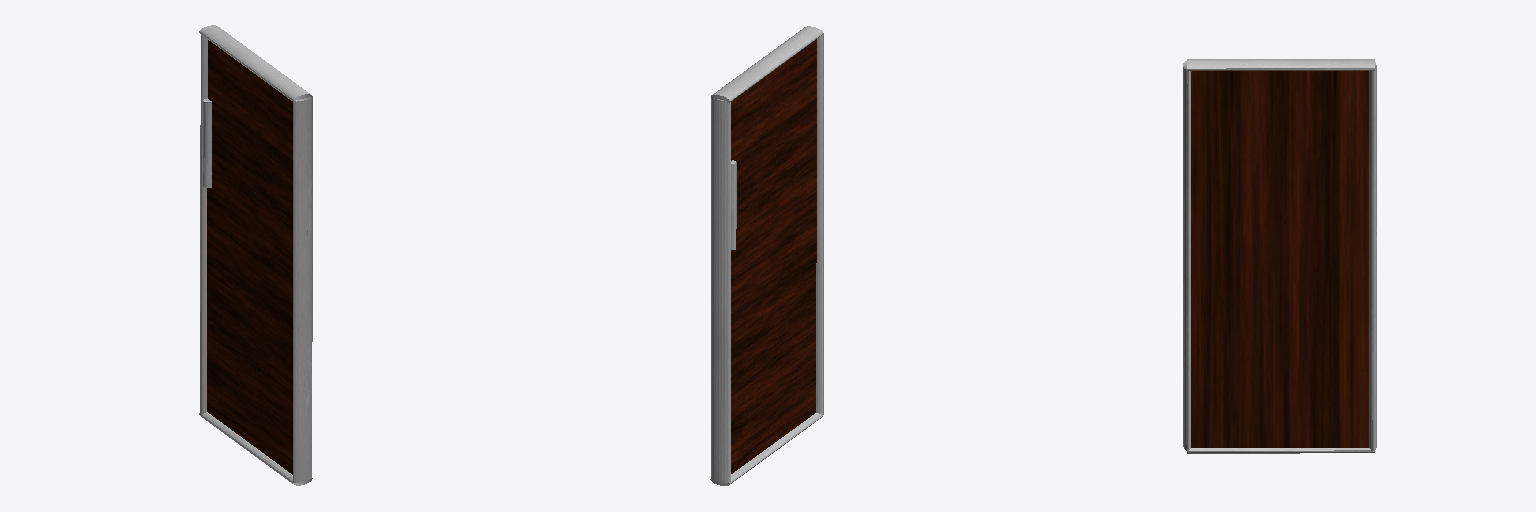
3 renders of one model, left to right at view 1: azimuth 30°, elevation 25°; view 2: azimuth 150°, elevation 25°; view 3: azimuth 270°, elevation 25°, orthographic.
Visible parts, largest first — view 1: pasted__polySurface114; view 2: pasted__polySurface114; view 3: pasted__polySurface114.
Boxes of the visible parts, <box> form: pasted__polySurface114: <box>199,25,312,485</box>; pasted__polySurface114: <box>710,26,823,485</box>; pasted__polySurface114: <box>1183,59,1376,453</box>.
Size of the model in its own units: 0.0274 by 0.4954 by 0.2228.
Materials: 6 (2 with a texture image).